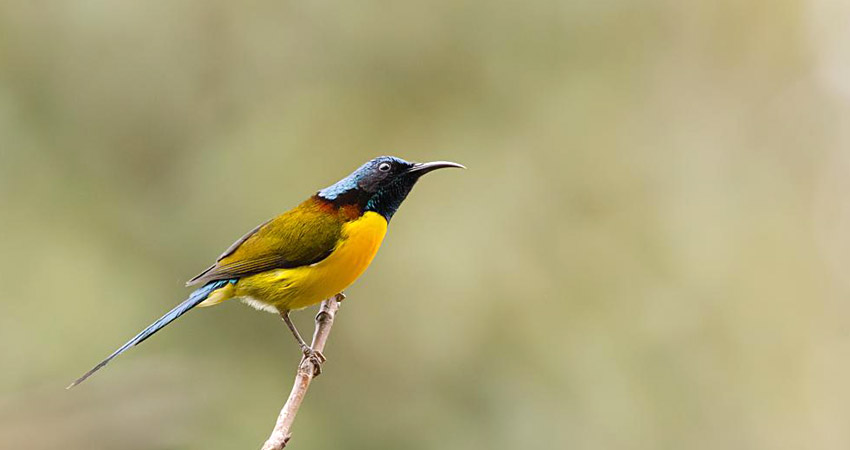bird: (61, 138, 479, 397)
